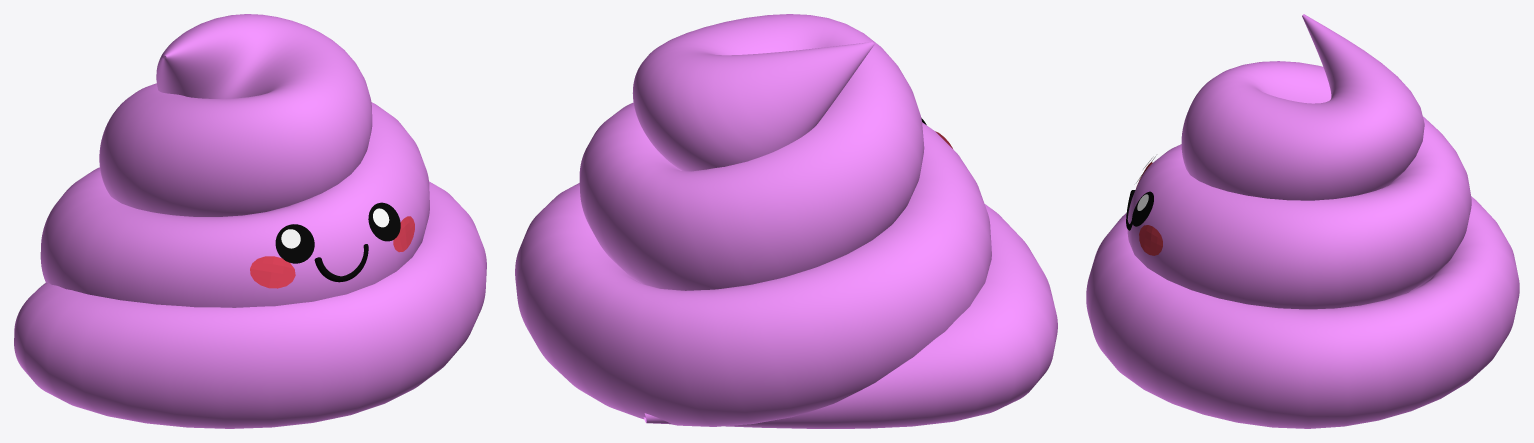
Rendered from poopy2.fbx.
3 views of the same model, side by side, from view 1: azimuth 30°, elevation 25°; view 2: azimuth 150°, elevation 25°; view 3: azimuth 270°, elevation 25° (orthographic). The views are drawn at different scales.
Parts seen in each view (by area): view 1: Spiral.001, Plane.005, Circle.007, Circle.006, Torus.003, Plane.006; view 2: Spiral.001; view 3: Spiral.001, Plane.006.
Part boxes in pixels (x1,y1,x2,y2): Spiral.001: [14, 14, 486, 428]; Plane.005: [250, 256, 295, 288]; Circle.007: [275, 224, 314, 263]; Circle.006: [368, 202, 400, 241]; Torus.003: [314, 244, 368, 282]; Plane.006: [393, 216, 414, 252]; Spiral.001: [515, 14, 1057, 428]; Spiral.001: [1086, 14, 1519, 428]; Plane.006: [1139, 225, 1162, 255].
Size of the model in its own units: 387 by 260 by 342.
